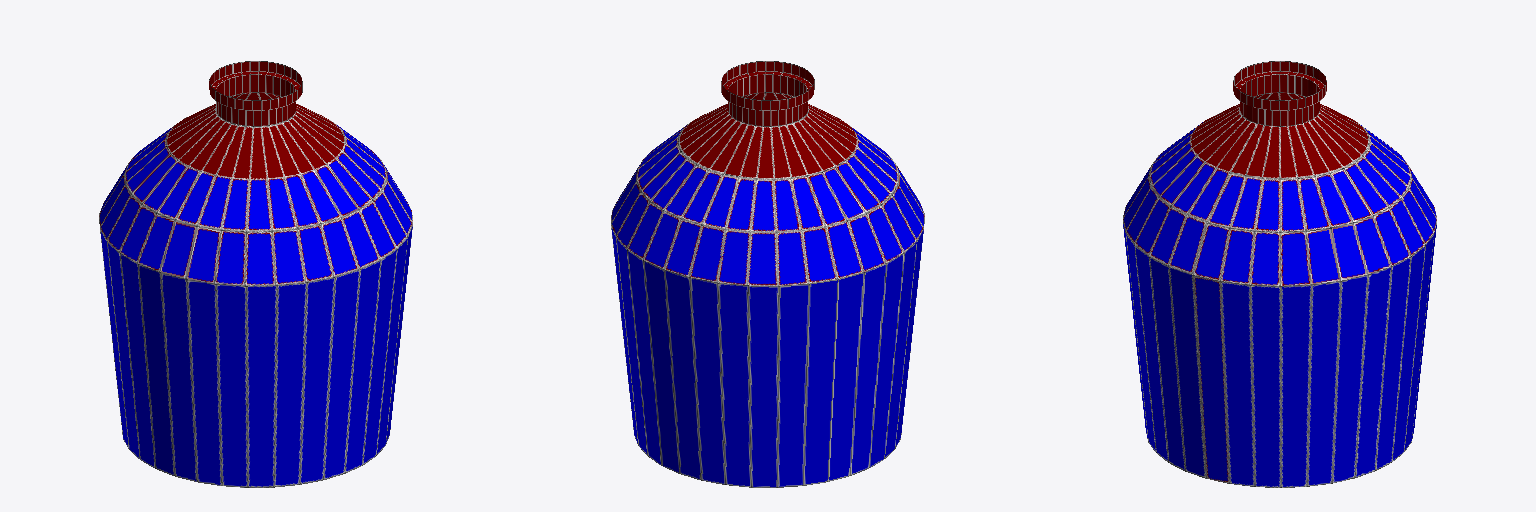
3 views of the same model, side by side, from view 1: azimuth 30°, elevation 25°; view 2: azimuth 150°, elevation 25°; view 3: azimuth 270°, elevation 25° (orthographic).
Visible parts, largest first — view 1: Circle; view 2: Circle; view 3: Circle.
Boxes of the visible parts, x1,y1,x2,y2 form: Circle: [99, 61, 412, 487]; Circle: [611, 61, 924, 487]; Circle: [1123, 61, 1436, 487].
Size of the model in its own units: 0.5278 by 0.6487 by 0.5278.
1 materials, 1 textured.